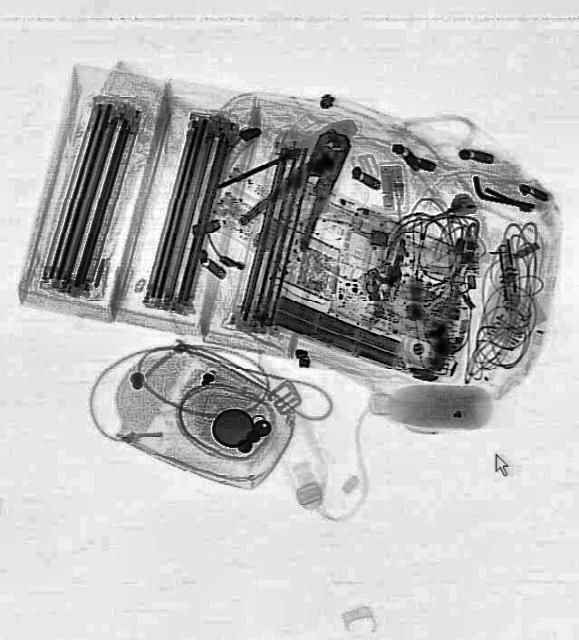Pliers: (236, 110, 368, 260)
